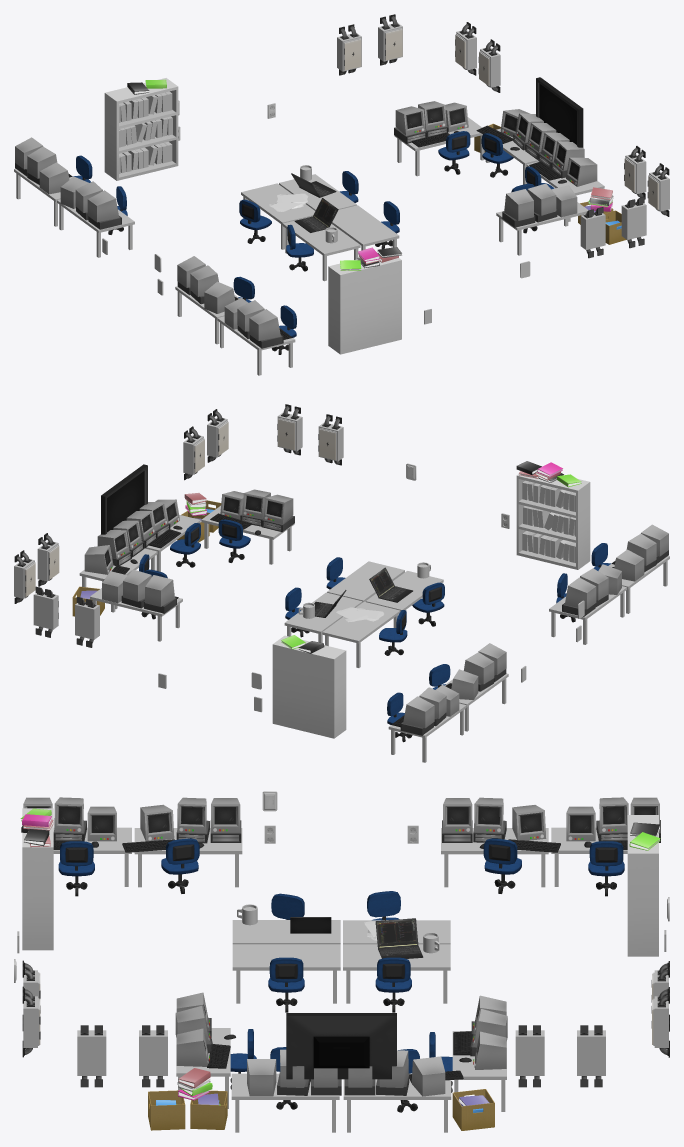
Rendered from Room03Set1.FBX.
3 renders of one model, top to bottom at view 1: azimuth 30°, elevation 25°; view 2: azimuth 150°, elevation 25°; view 3: azimuth 270°, elevation 25°, orthographic. The views are drawn at different scales.
Parts seen in each view (by area): view 1: bookshelf031, bookshelf032, Books012, moniter0 003, Box451, Box458, Box450, Box452, switchbox008, switchbox009, Box363, Box421 (+21 smaller); view 2: bookshelf032, bookshelf031, Books011, moniter0 003, Box450, Box451, Box452, Box458, Box354, switchbox010, Box355, switchbox011 (+23 smaller); view 3: moniter0 003, bookshelf032, bookshelf031, Box451, Box458, Box452, PC006, Box422, Box449, Box406, Box453, Box414 (+45 smaller).
Part boxes in pixels (x1=…): bookshelf031: x1=328, y1=258, x2=401, y2=354; bookshelf032: x1=104, y1=78, x2=178, y2=180; Books012: x1=119, y1=91, x2=172, y2=173; moniter0 003: x1=536, y1=77, x2=583, y2=147; Box451: x1=331, y1=205, x2=399, y2=250; Box458: x1=282, y1=216, x2=360, y2=281; Box450: x1=241, y1=183, x2=315, y2=249; Box452: x1=279, y1=174, x2=356, y2=210; switchbox008: x1=580, y1=212, x2=605, y2=249; switchbox009: x1=621, y1=203, x2=646, y2=239; Box363: x1=438, y1=131, x2=470, y2=174; Box421: x1=57, y1=199, x2=134, y2=257; bookshelf032: x1=272, y1=635, x2=346, y2=738; bookshelf031: x1=516, y1=474, x2=590, y2=569; Books011: x1=522, y1=480, x2=575, y2=562; moniter0 003: x1=101, y1=464, x2=147, y2=534; Box450: x1=322, y1=601, x2=400, y2=667; Box451: x1=327, y1=561, x2=404, y2=602; Box452: x1=284, y1=592, x2=362, y2=642; Box458: x1=365, y1=571, x2=443, y2=611; Box354: x1=201, y1=505, x2=294, y2=564; switchbox010: x1=33, y1=593, x2=58, y2=629; Box355: x1=218, y1=519, x2=250, y2=562; switchbox011: x1=75, y1=603, x2=99, y2=639; moniter0 003: x1=286, y1=1013, x2=396, y2=1079; bookshelf032: x1=627, y1=815, x2=658, y2=956; bookshelf031: x1=22, y1=808, x2=53, y2=950; Box451: x1=232, y1=944, x2=340, y2=1003; Box458: x1=232, y1=920, x2=340, y2=944; Box452: x1=343, y1=944, x2=450, y2=1003; PC006: x1=375, y1=918, x2=423, y2=958; Box422: x1=483, y1=838, x2=521, y2=893; Box449: x1=268, y1=957, x2=304, y2=1012; Box406: x1=161, y1=838, x2=199, y2=893; Box453: x1=375, y1=957, x2=411, y2=1012; Box414: x1=58, y1=841, x2=94, y2=896.
Size of the model in its own units: 120 by 24.25 by 120.
